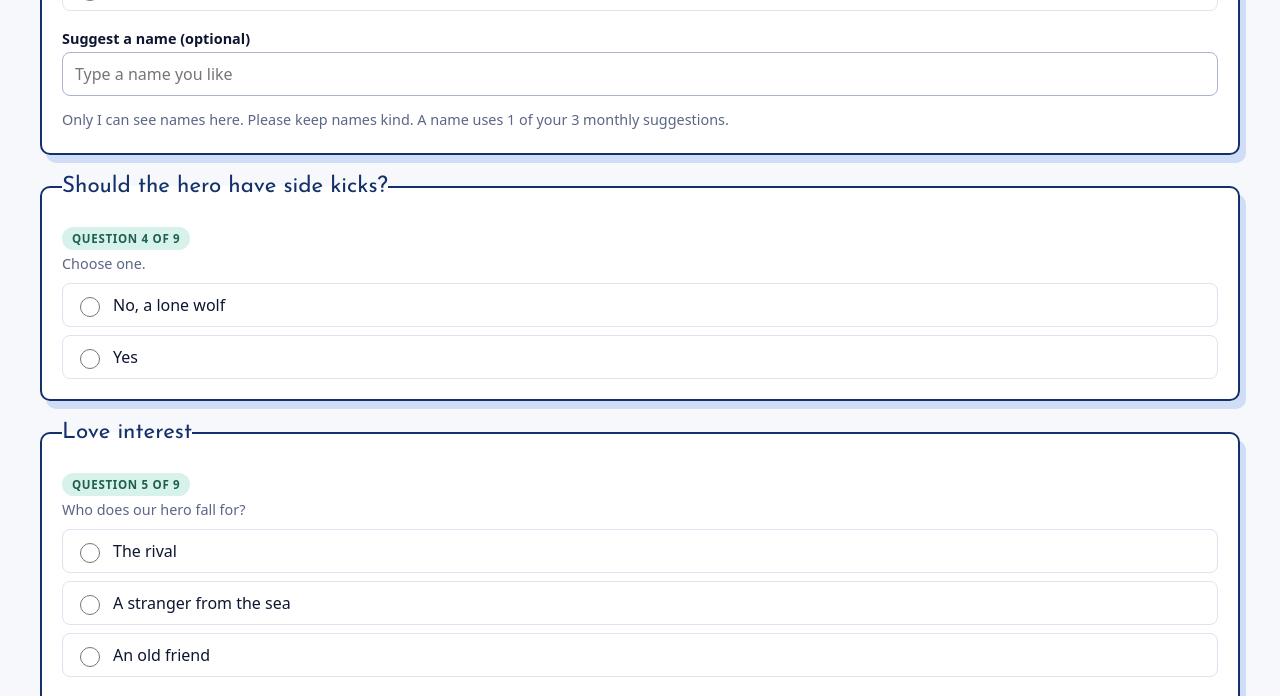
Scenario: the form › shows "How many?" after Yes, then the side kicks question as number 5 of 10 with its reason, and no name box on it
(page scrolled)
Click the radio button labelled "Yes" at (90, 359), box [80,349,100,369]
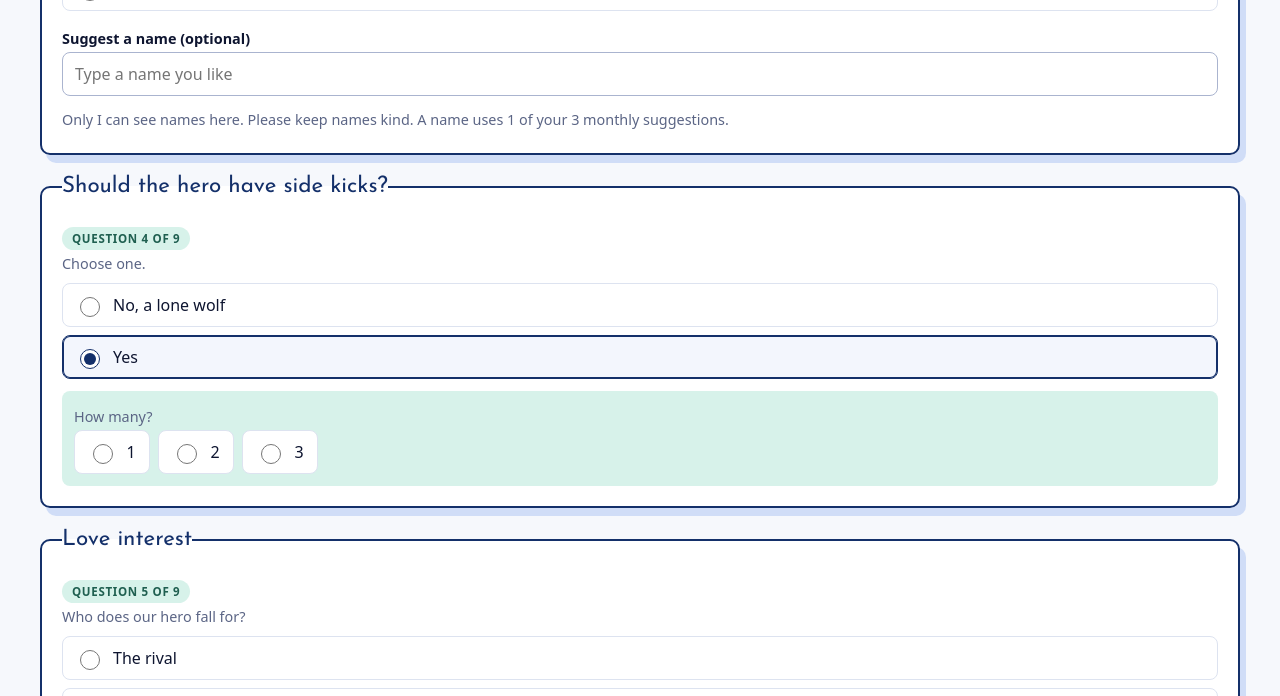
Expected: the text "How many?" is shown, [74,407,152,426]
Click the radio button labelled "2" at (187, 454), box [177,444,197,464]
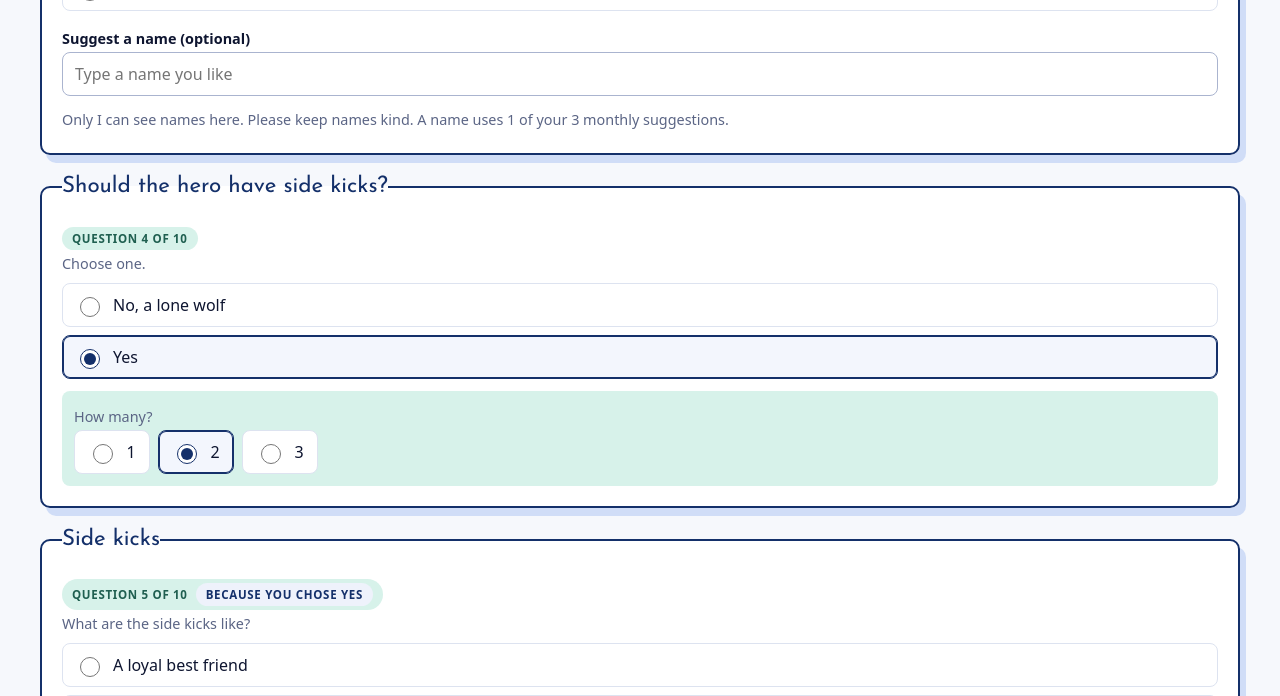
Expected: the text "Question 5 of 10 Because you chose Yes" is shown, [62,579,383,610]
Expected: the text "Because you chose Yes" is shown, [196,583,373,606]
